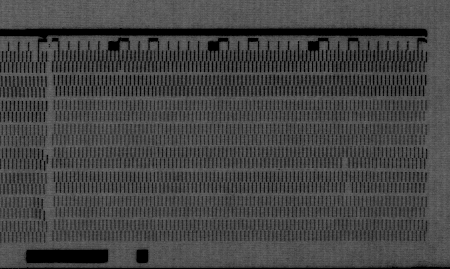Broken hole: (28, 51, 42, 66), (339, 158, 352, 170), (344, 183, 354, 196)
Oblique printing: (37, 197, 52, 222), (41, 151, 54, 168), (115, 61, 127, 74)
